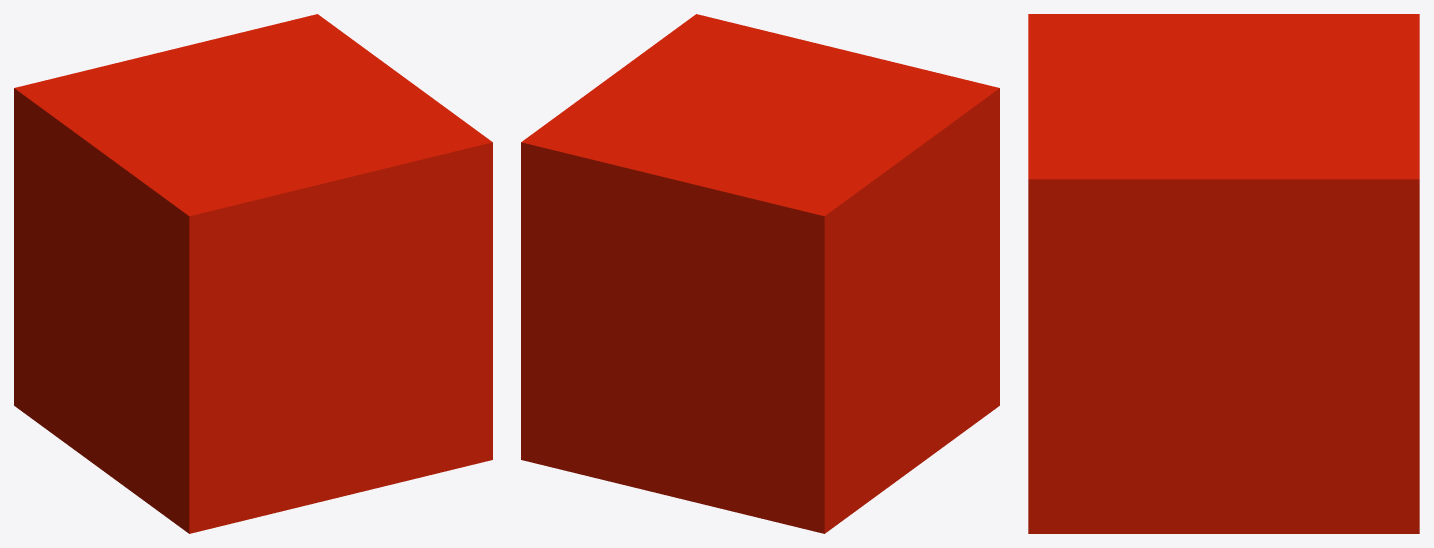
The model's file is glass-dome.glb.
3 renders of one model, left to right at view 1: azimuth 30°, elevation 25°; view 2: azimuth 150°, elevation 25°; view 3: azimuth 270°, elevation 25°, orthographic. The views are drawn at different scales.
Parts seen in each view (by area): view 1: Dome; view 2: Dome; view 3: Dome.
Part boxes in pixels (x1,y1,x2,y2): Dome: (14,14,492,533); Dome: (521,14,999,533); Dome: (1028,14,1419,533).
Bounding box in the file's own units: 1 × 1 × 1.
